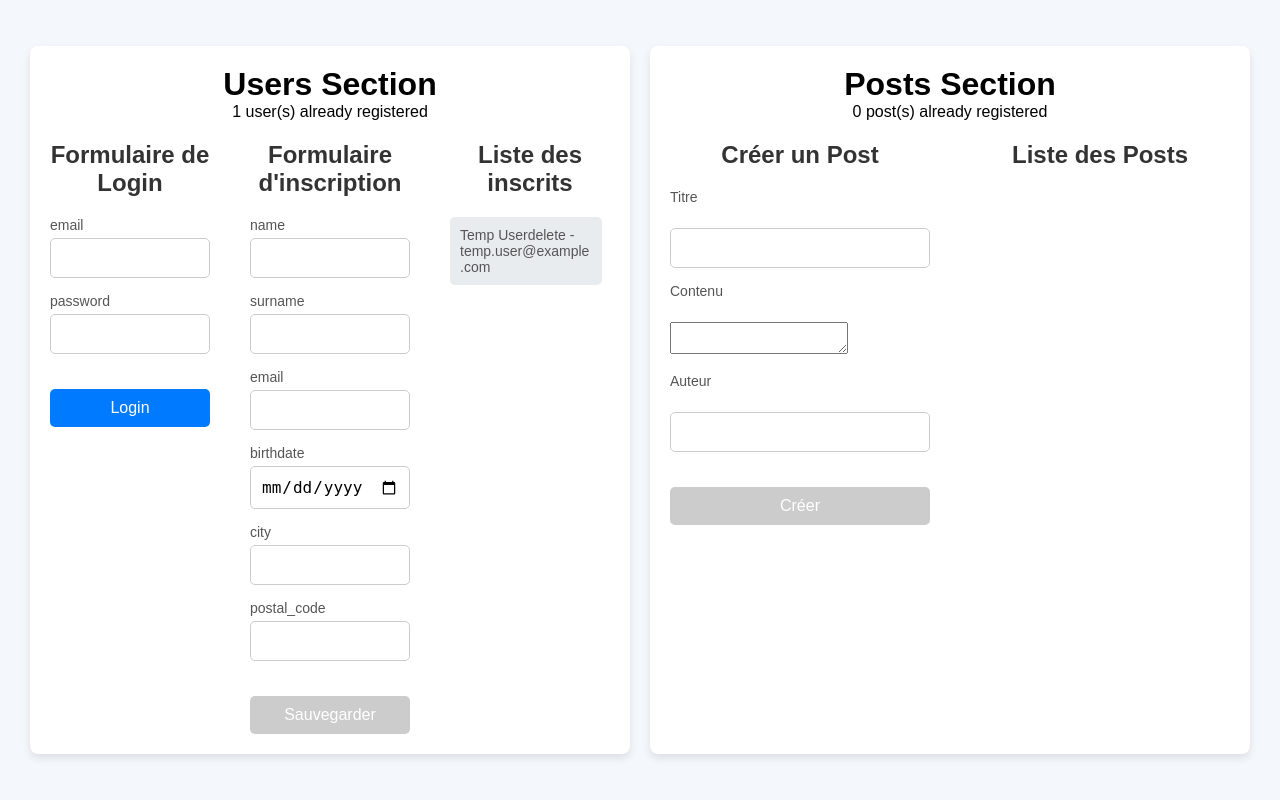
Affichage des détails d'un utilisateur › affiche les détails si l'utilisateur est connecté
This screenshot has width=1280, height=800.
Step 1. Type "admin@test.com" into the field with id "email" → (130, 258), box [50, 238, 210, 278]
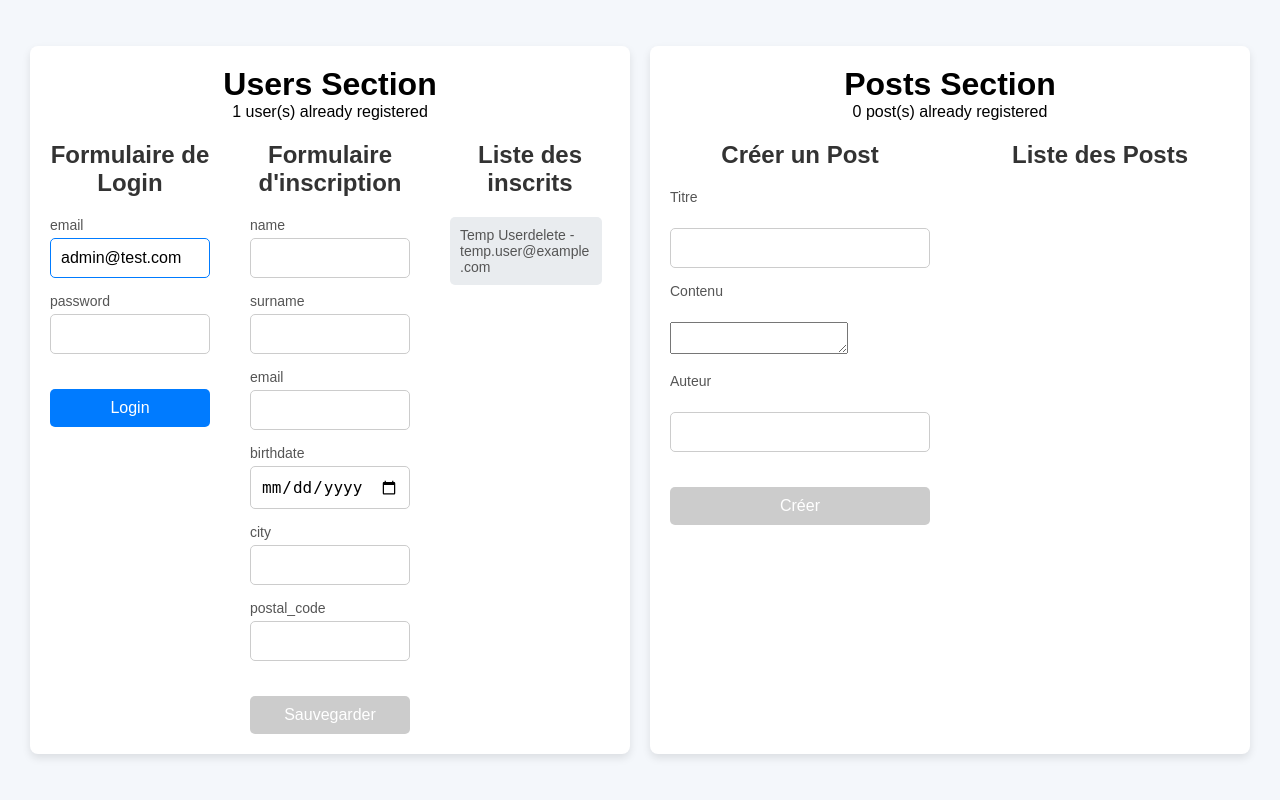
Step 2. Type "admin123" into the password field labelled "password" → (130, 334), box [50, 314, 210, 354]
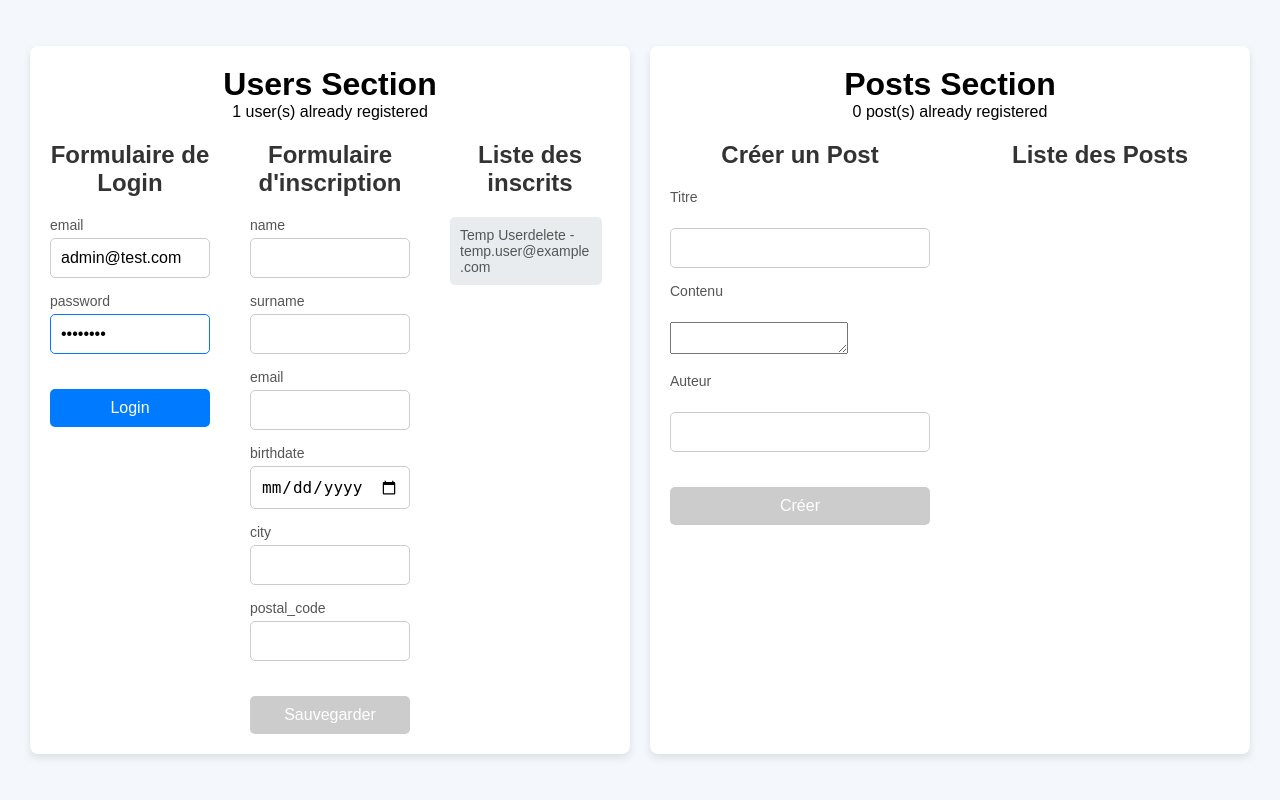
Step 3. Click the button "Login" → (130, 408), box [50, 389, 210, 427]
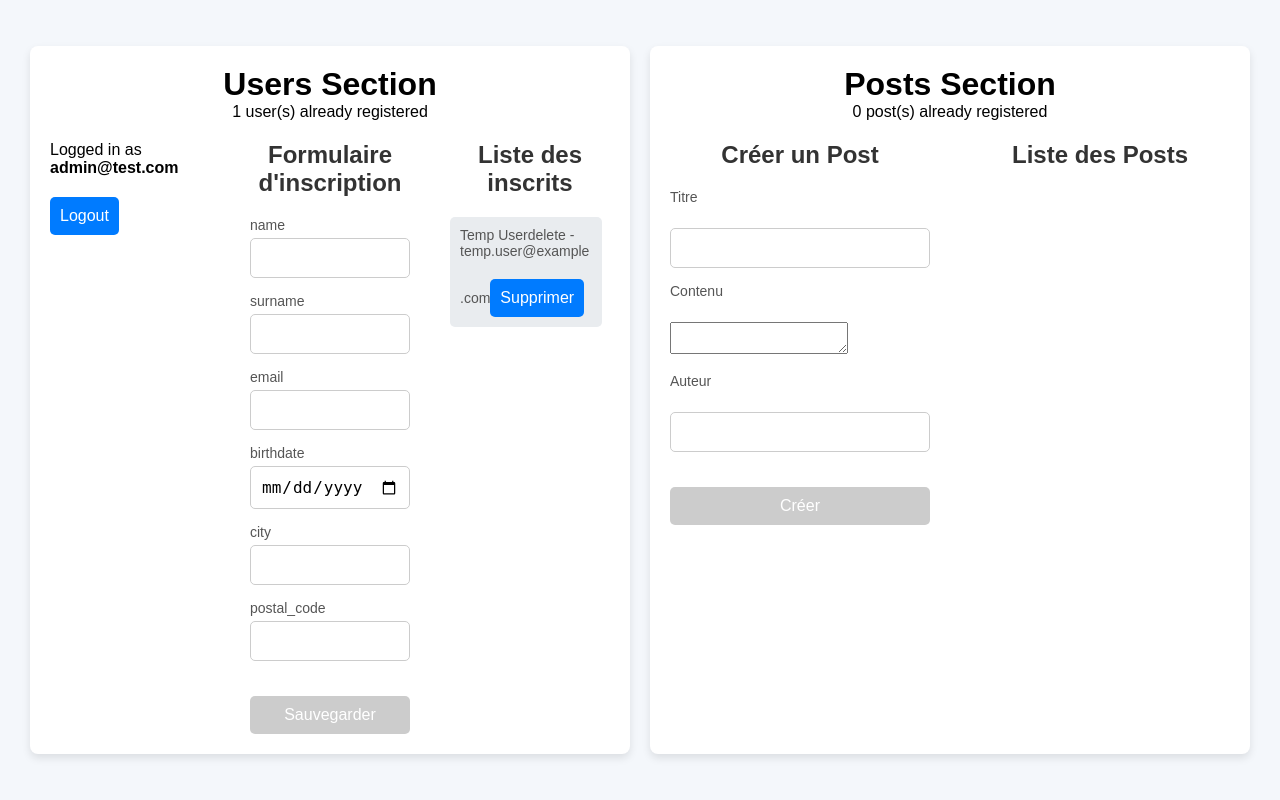
Expected: the heading "Liste des inscrits" is shown, [478, 141, 582, 196]
Expected: the text "Logged in as" is shown, [50, 141, 142, 158]
Step 4. Click the list item "Temp Userdelete - temp.user@example.com Supprimer" → (526, 272), box [450, 217, 602, 327]
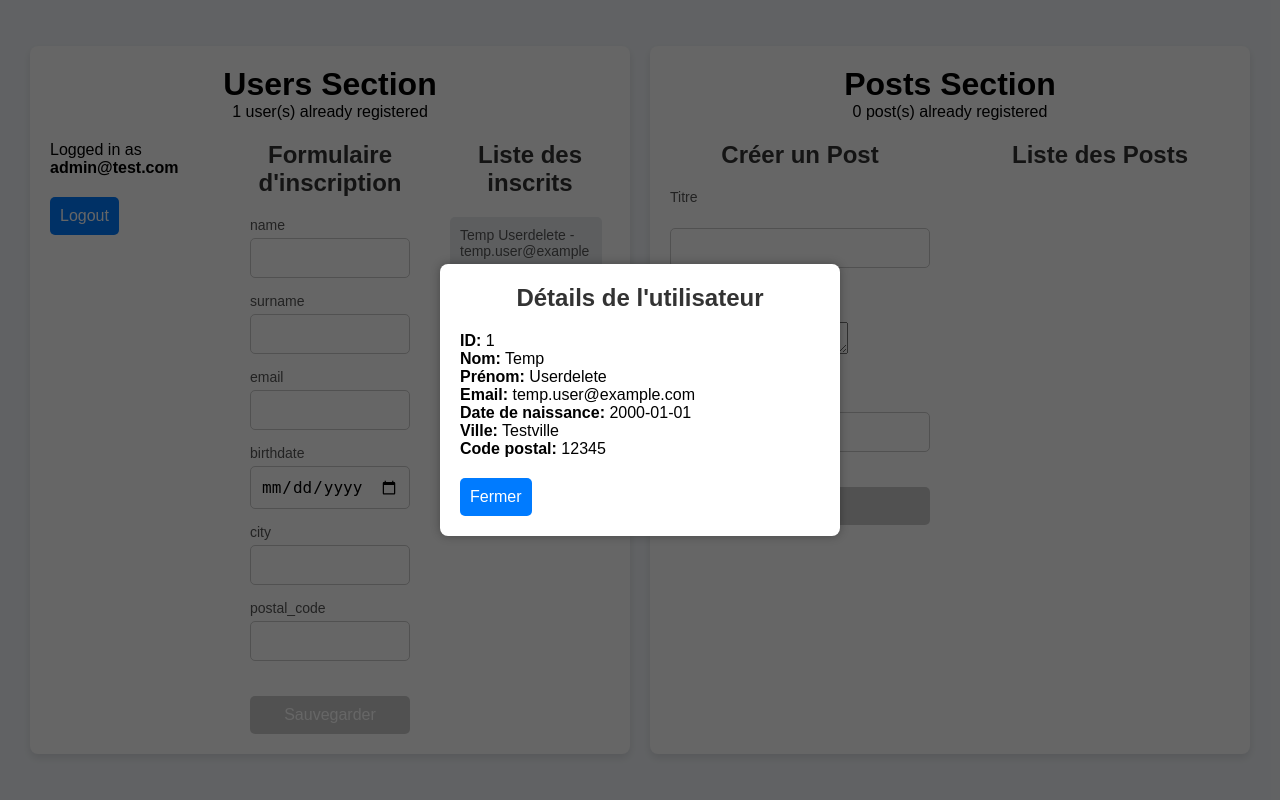
Expected: the heading "Détails de l'utilisateur" is shown, [516, 284, 764, 311]
